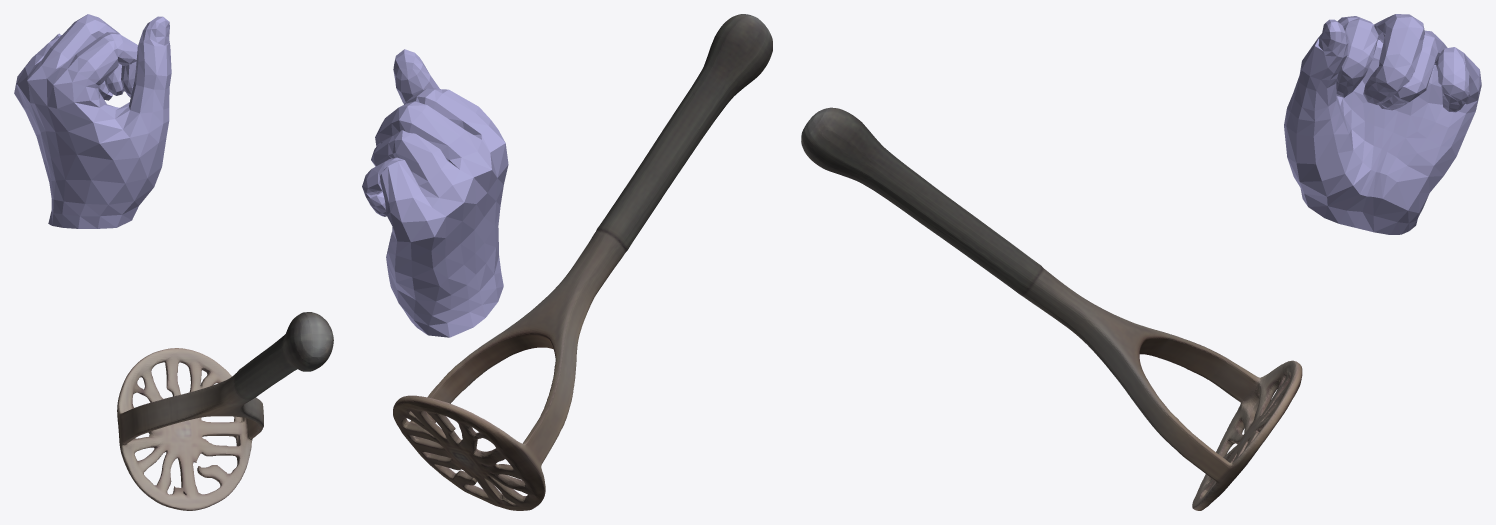
The model's file is frame_0079_source_000079_hand_object.glb.
3 views of the same model, side by side, from view 1: azimuth 30°, elevation 25°; view 2: azimuth 150°, elevation 25°; view 3: azimuth 270°, elevation 25° (orthographic). The views are drawn at different scales.
Visible parts, largest first — view 1: world; view 2: world; view 3: world.
Boxes of the visible parts, x1=… form: world: x1=14, y1=14, x2=333, y2=510; world: x1=362, y1=14, x2=772, y2=510; world: x1=801, y1=14, x2=1481, y2=510.
Size of the model in its own units: 0.089 by 0.2503 by 0.3126.
